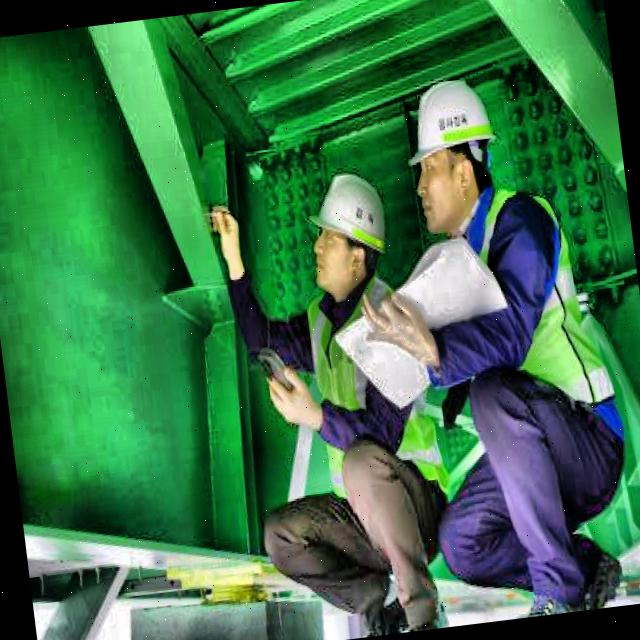helmet: (398, 67, 514, 239), (298, 167, 404, 312)
